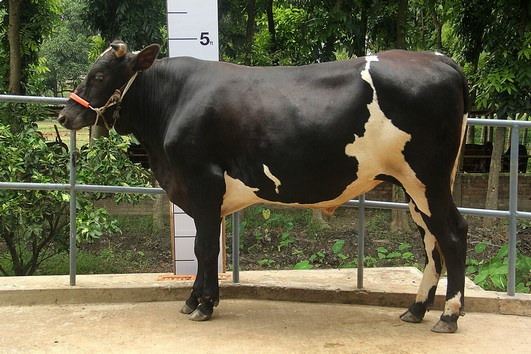cow: (49, 41, 475, 336)
